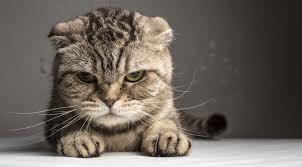kedi: (48, 7, 194, 161)
